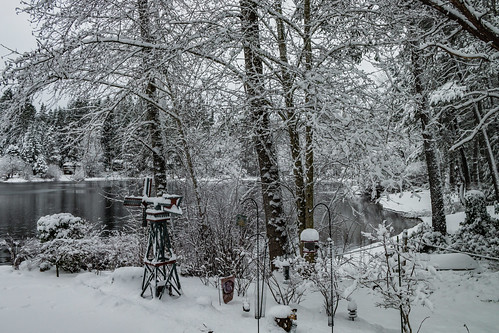river: (1, 180, 384, 264)
vegetation: (83, 1, 499, 293)
